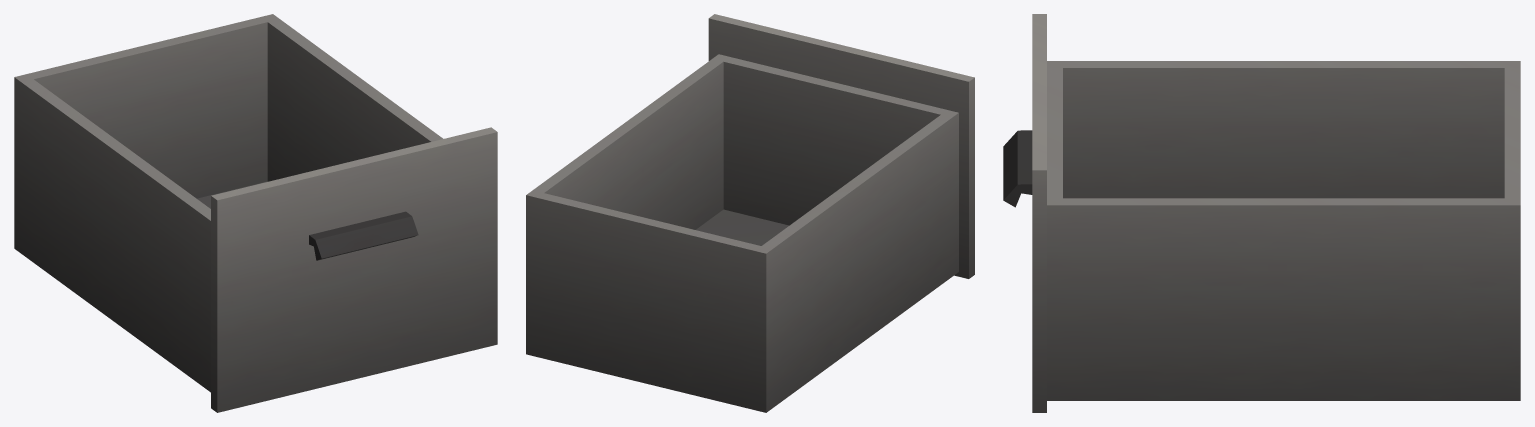
The model's file is DeskSideCabinet_Small_BottomDrawer.fbx.
The picture shows the model from 3 angles, left to right: view 1: azimuth 30°, elevation 25°; view 2: azimuth 150°, elevation 25°; view 3: azimuth 270°, elevation 25°; orthographic projection. The views are drawn at different scales.
Visible parts, largest first — view 1: DeskSideCabinet_Small_BottomDrawer; view 2: DeskSideCabinet_Small_BottomDrawer; view 3: DeskSideCabinet_Small_BottomDrawer.
Part boxes in pixels (x1,y1,x2,y2): DeskSideCabinet_Small_BottomDrawer: (14, 14, 497, 412); DeskSideCabinet_Small_BottomDrawer: (526, 14, 974, 412); DeskSideCabinet_Small_BottomDrawer: (1003, 14, 1520, 412).
Bounding box in the file's own units: 38.88 × 28.17 × 54.43.
